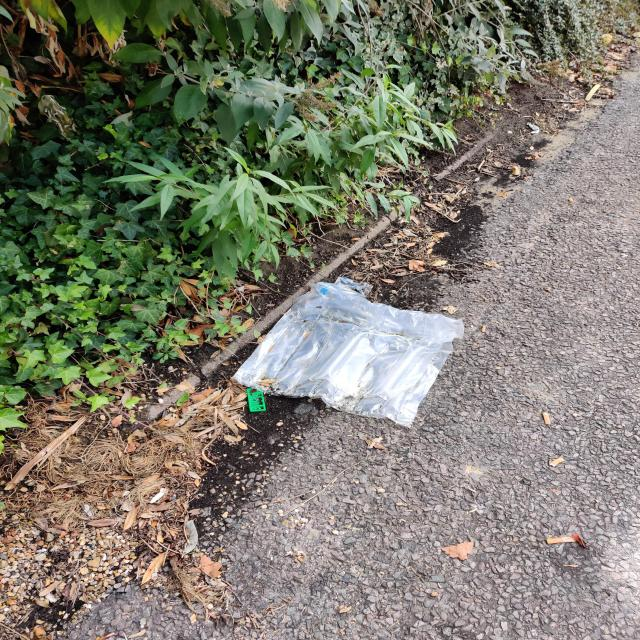litter: (233, 281, 465, 428)
